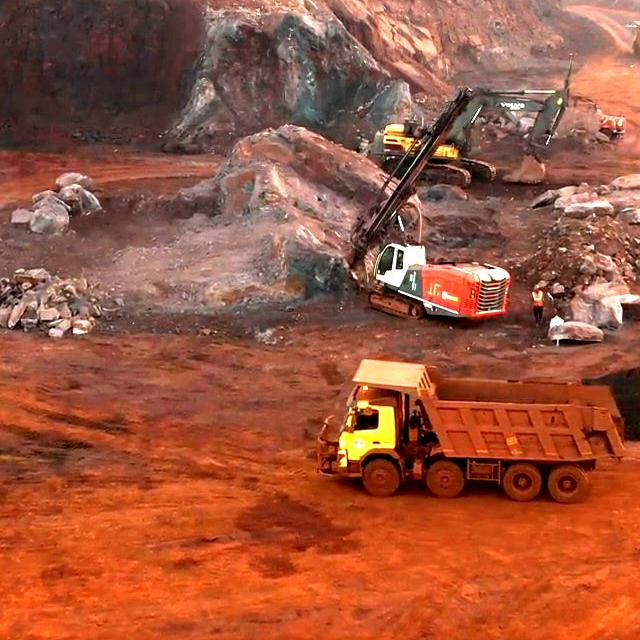Blast rig: (374, 243, 505, 323)
Dumper truck: (328, 357, 622, 500)
Excavator: (384, 112, 487, 182)
person: (532, 283, 545, 324)
